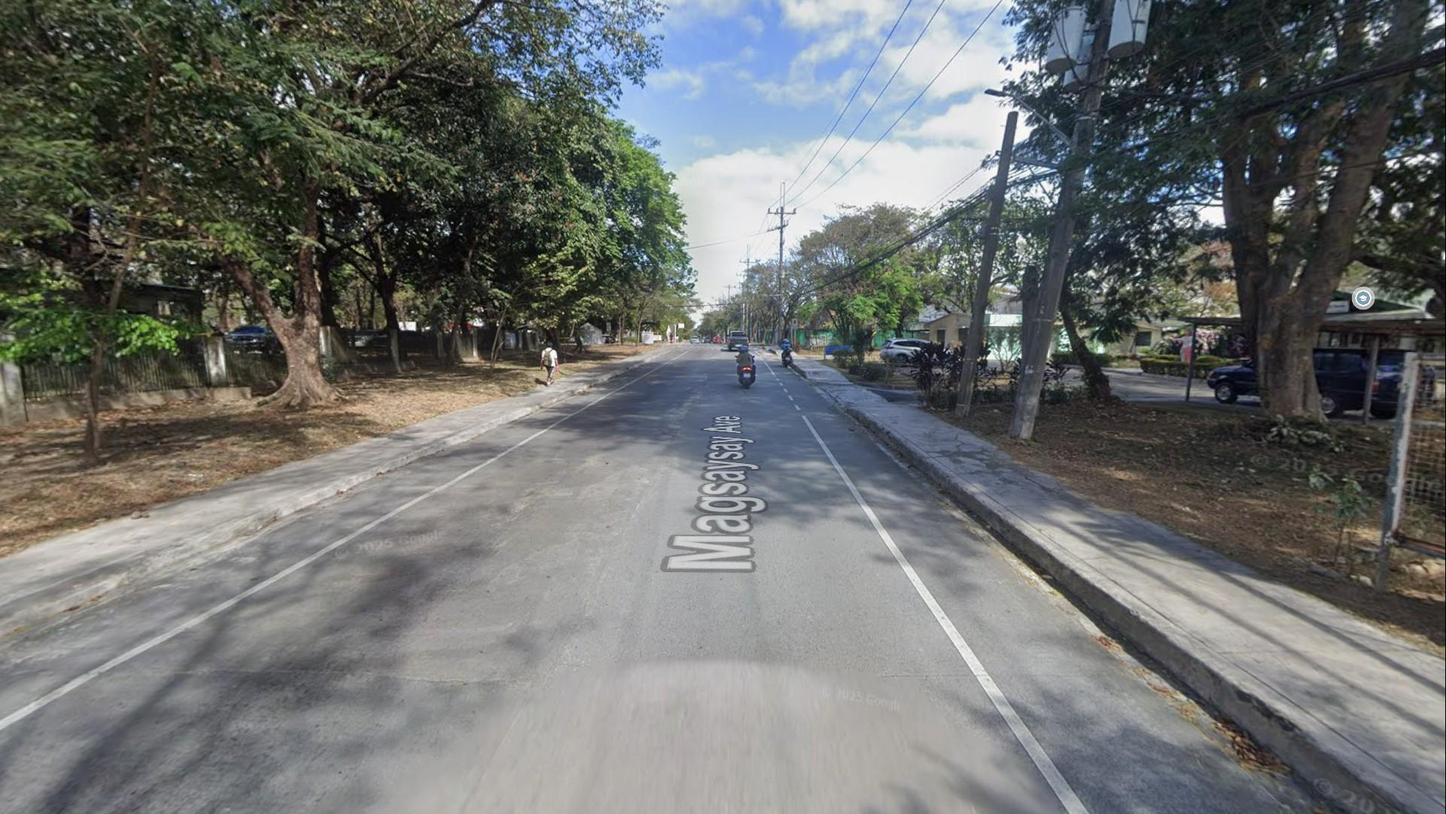pedestrian: (540, 340, 559, 388), (669, 331, 674, 344)
